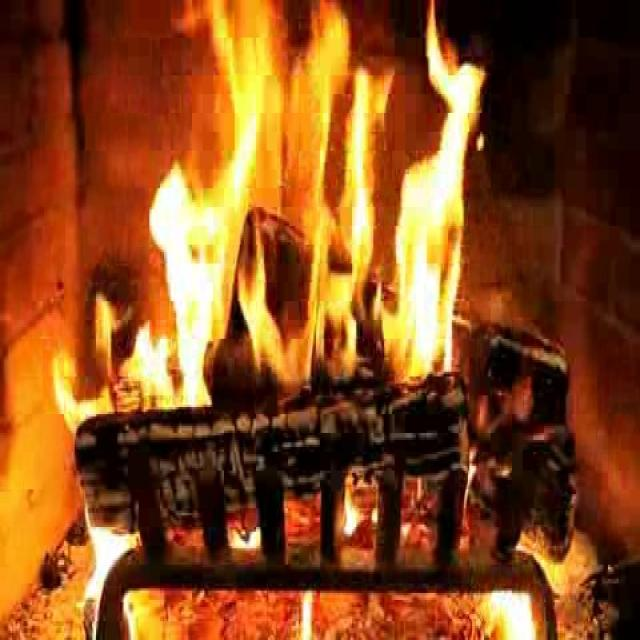fire: (136, 14, 484, 418)
